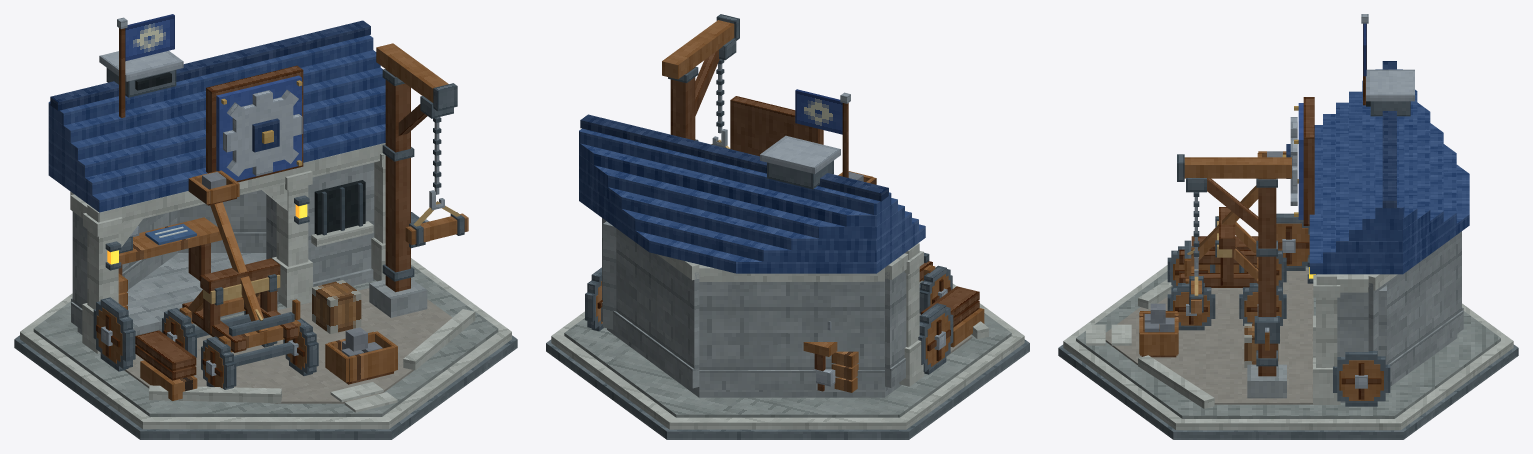
The model's file is siege_arsenal_hex_v1.glb.
3 renders of one model, left to right at view 1: azimuth 30°, elevation 25°; view 2: azimuth 150°, elevation 25°; view 3: azimuth 270°, elevation 25°, orthographic. The views are drawn at different scales.
Parts seen in each view (by area): view 1: Siege_Arsenal_Hex_V1_Roofs, Siege_Arsenal_Hex_V1_Workshop, Siege_Arsenal_Hex_V1_Equipment, Siege_Arsenal_Hex_V1_Foundation, Siege_Arsenal_Hex_V1_Catapult, Siege_Arsenal_Hex_V1_Courtyard, Siege_Arsenal_Hex_V1_Heraldry, Siege_Arsenal_Hex_V1_Details; view 2: Siege_Arsenal_Hex_V1_Workshop, Siege_Arsenal_Hex_V1_Roofs, Siege_Arsenal_Hex_V1_Foundation, Siege_Arsenal_Hex_V1_Equipment, Siege_Arsenal_Hex_V1_Heraldry, Siege_Arsenal_Hex_V1_Catapult; view 3: Siege_Arsenal_Hex_V1_Roofs, Siege_Arsenal_Hex_V1_Foundation, Siege_Arsenal_Hex_V1_Equipment, Siege_Arsenal_Hex_V1_Workshop, Siege_Arsenal_Hex_V1_Courtyard, Siege_Arsenal_Hex_V1_Catapult, Siege_Arsenal_Hex_V1_Heraldry, Siege_Arsenal_Hex_V1_Details.
Boxes of the visible parts, box(x1,y1,x2,y2) form: Siege_Arsenal_Hex_V1_Roofs: box(48, 20, 385, 212); Siege_Arsenal_Hex_V1_Workshop: box(70, 68, 385, 353); Siege_Arsenal_Hex_V1_Equipment: box(93, 43, 468, 400); Siege_Arsenal_Hex_V1_Foundation: box(14, 258, 517, 439); Siege_Arsenal_Hex_V1_Catapult: box(162, 170, 318, 389); Siege_Arsenal_Hex_V1_Courtyard: box(124, 288, 475, 412); Siege_Arsenal_Hex_V1_Heraldry: box(117, 14, 303, 182); Siege_Arsenal_Hex_V1_Details: box(105, 195, 361, 334); Siege_Arsenal_Hex_V1_Workshop: box(601, 160, 924, 397); Siege_Arsenal_Hex_V1_Roofs: box(579, 114, 925, 273); Siege_Arsenal_Hex_V1_Foundation: box(546, 280, 1029, 439); Siege_Arsenal_Hex_V1_Equipment: box(585, 14, 984, 392); Siege_Arsenal_Hex_V1_Heraldry: box(730, 89, 850, 177); Siege_Arsenal_Hex_V1_Catapult: box(838, 171, 952, 314); Siege_Arsenal_Hex_V1_Roofs: box(1309, 61, 1469, 274); Siege_Arsenal_Hex_V1_Foundation: box(1058, 265, 1518, 439); Siege_Arsenal_Hex_V1_Equipment: box(1139, 154, 1390, 406); Siege_Arsenal_Hex_V1_Workshop: box(1313, 101, 1463, 404); Siege_Arsenal_Hex_V1_Courtyard: box(1086, 269, 1313, 408); Siege_Arsenal_Hex_V1_Catapult: box(1167, 151, 1286, 330); Siege_Arsenal_Hex_V1_Heraldry: box(1282, 14, 1368, 225); Siege_Arsenal_Hex_V1_Details: box(1244, 257, 1315, 367).
Bounding box in the file's own units: 1.59 × 1.3 × 1.84.
1 material, 1 textured.
